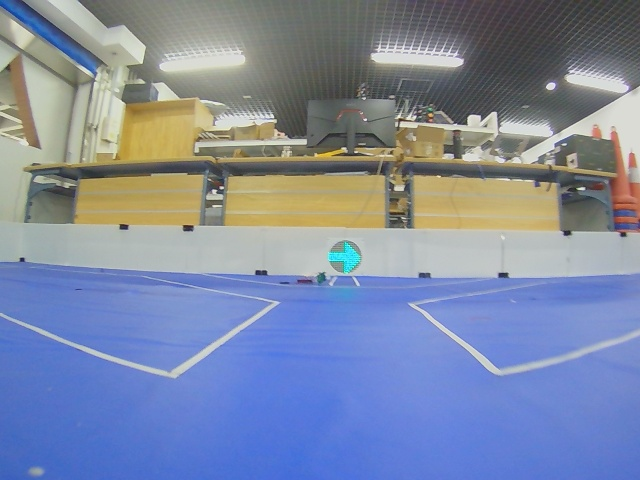right_green: (328, 240, 362, 274)
